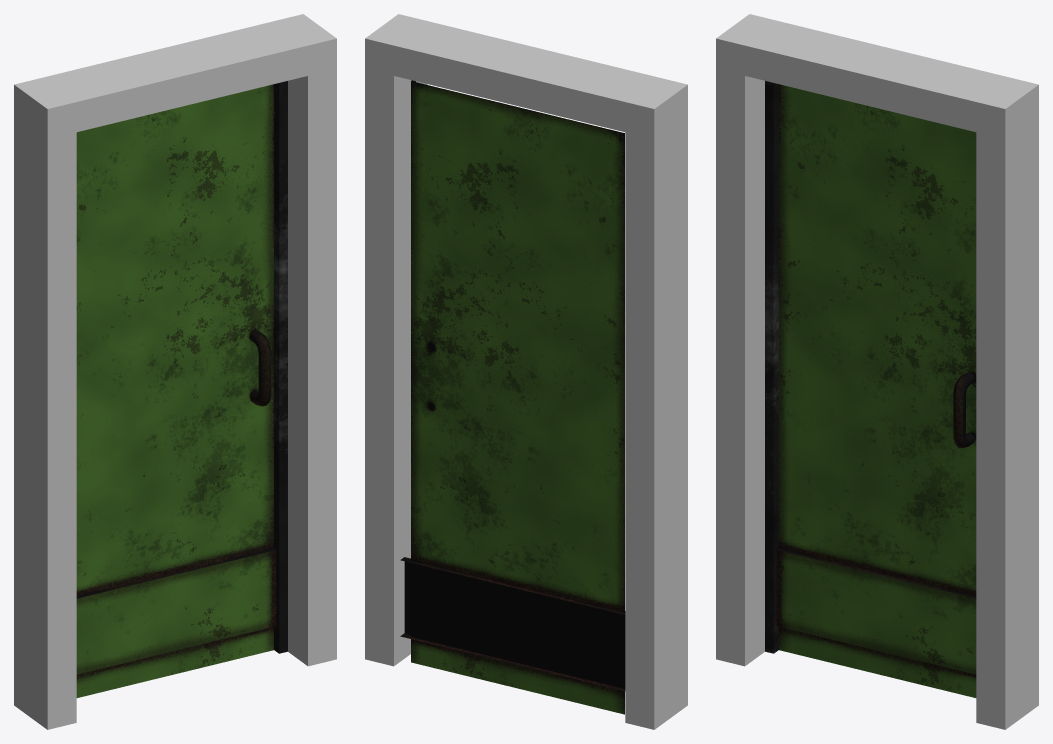
Rendered from Door_Alcove.fbx.
3 renders of one model, left to right at view 1: azimuth 30°, elevation 25°; view 2: azimuth 150°, elevation 25°; view 3: azimuth 330°, elevation 25°, orthographic.
Parts seen in each view (by area): view 1: Door_Alcove_Green; view 2: Door_Alcove_Green; view 3: Door_Alcove_Green.
Part boxes in pixels (x1,y1,x2,y2): Door_Alcove_Green: [14, 14, 336, 729]; Door_Alcove_Green: [365, 14, 687, 729]; Door_Alcove_Green: [716, 14, 1038, 729].
Bounding box in the file's own units: 100 × 205 × 20.07.
